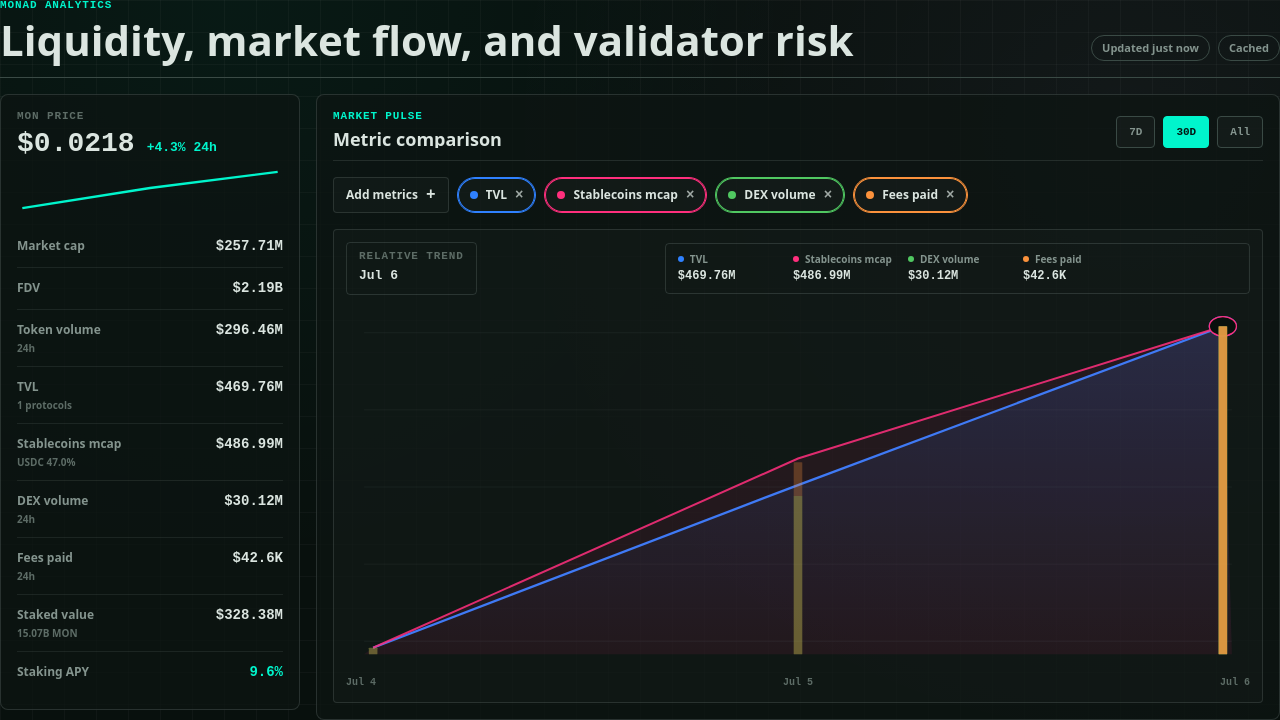
AnalyticsDashboard metric picker › lists only metrics that have chart history
Click the button "Add metrics +".
click(391, 195)  # box [333,177,448,213]
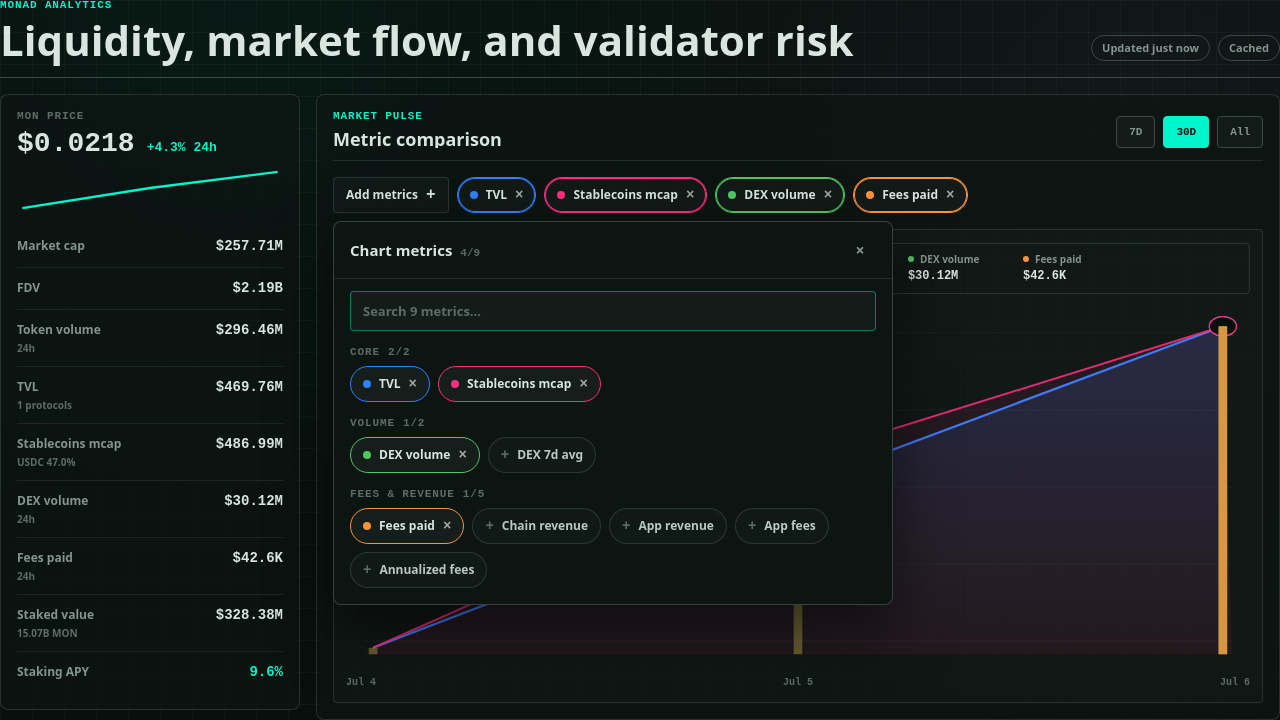
Expected: the button "DEX volume ×" below "Core" is shown, [350,437,480,473]
Expected: the button "+ App fees" is shown, [735,508,829,544]
